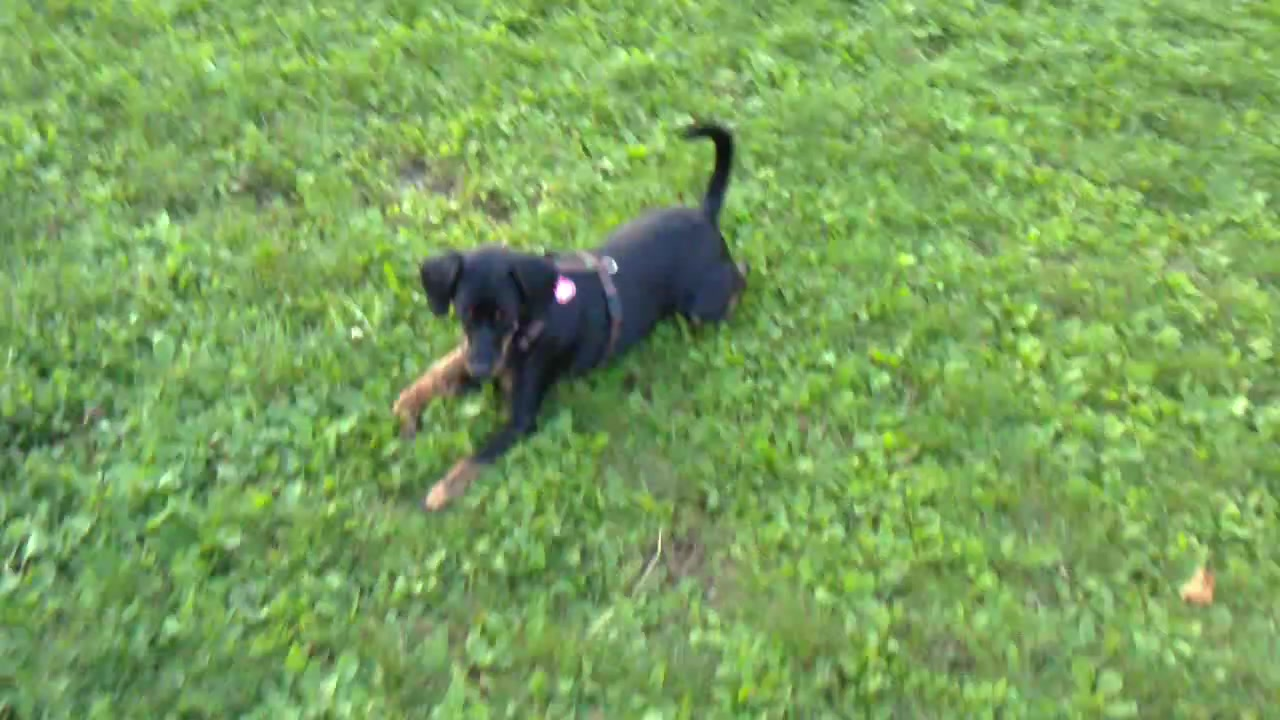dog: (392, 118, 747, 515)
